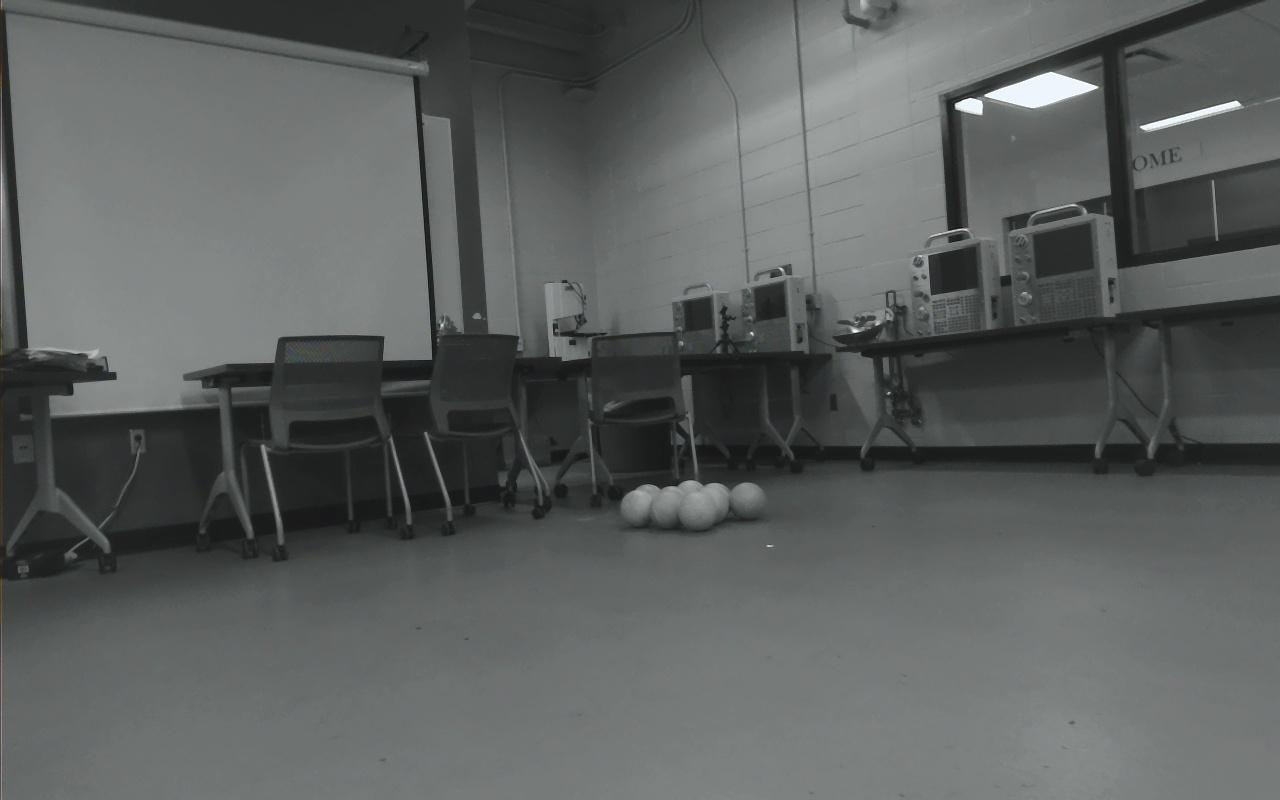Fuel: (680, 490, 719, 532), (649, 490, 685, 530), (696, 484, 731, 524), (620, 490, 657, 527), (730, 482, 765, 520), (704, 482, 732, 517), (677, 480, 704, 510), (635, 484, 662, 509), (658, 485, 682, 509)
